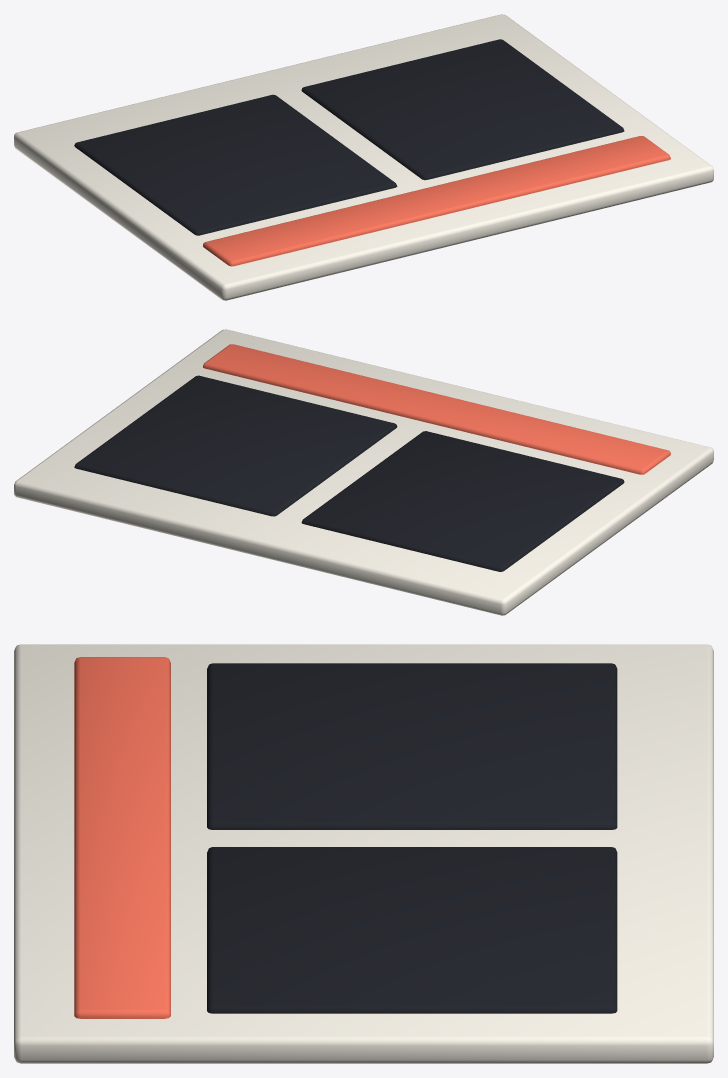
Rendered from Doc_CodeReviewSheet.fbx.
3 views of the same model, one above another, from view 1: azimuth 30°, elevation 25°; view 2: azimuth 150°, elevation 25°; view 3: azimuth 270°, elevation 25° (orthographic). The views are drawn at different scales.
Parts seen in each view (by area): view 1: CodeReview_Sheet, CodeReview_PaneR, CodeReview_PaneL, CodeReview_Header; view 2: CodeReview_Sheet, CodeReview_PaneL, CodeReview_PaneR, CodeReview_Header; view 3: CodeReview_Sheet, CodeReview_PaneL, CodeReview_PaneR, CodeReview_Header.
Boxes of the visible parts, x1,y1,x2,y2 form: CodeReview_Sheet: (14,14,713,300); CodeReview_PaneR: (74,94,397,235); CodeReview_PaneL: (301,39,624,180); CodeReview_Header: (203,136,670,266); CodeReview_Sheet: (14,329,713,615); CodeReview_PaneL: (74,375,397,516); CodeReview_PaneR: (301,431,624,571); CodeReview_Header: (203,344,670,474); CodeReview_Sheet: (14,644,713,1063); CodeReview_PaneL: (207,847,617,1013); CodeReview_PaneR: (207,663,617,829); CodeReview_Header: (74,657,170,1018).
Size of the model in its own units: 7.8 by 0.32 by 5.8.
